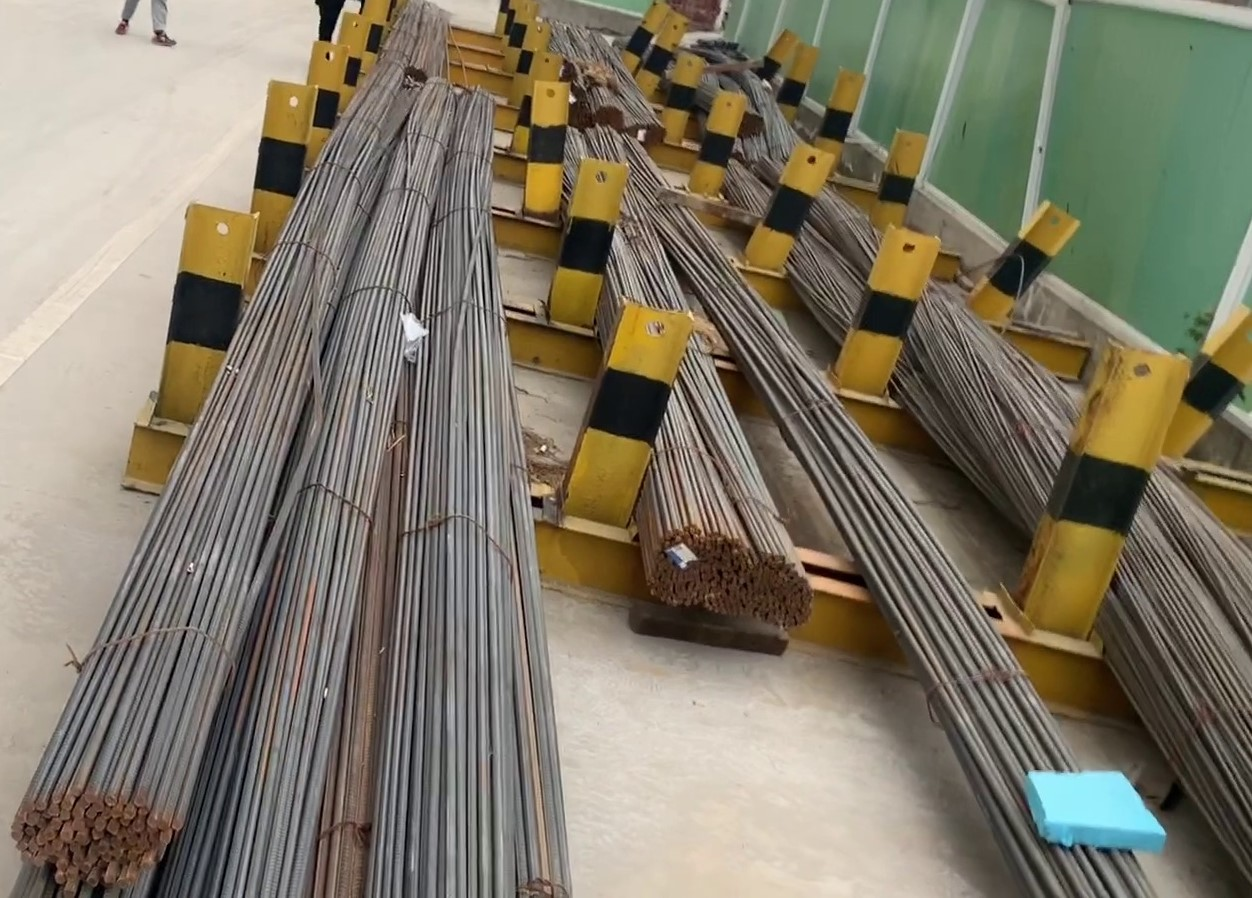rebar: (644, 518, 814, 629), (12, 793, 179, 887), (578, 97, 622, 130), (629, 116, 667, 141)
